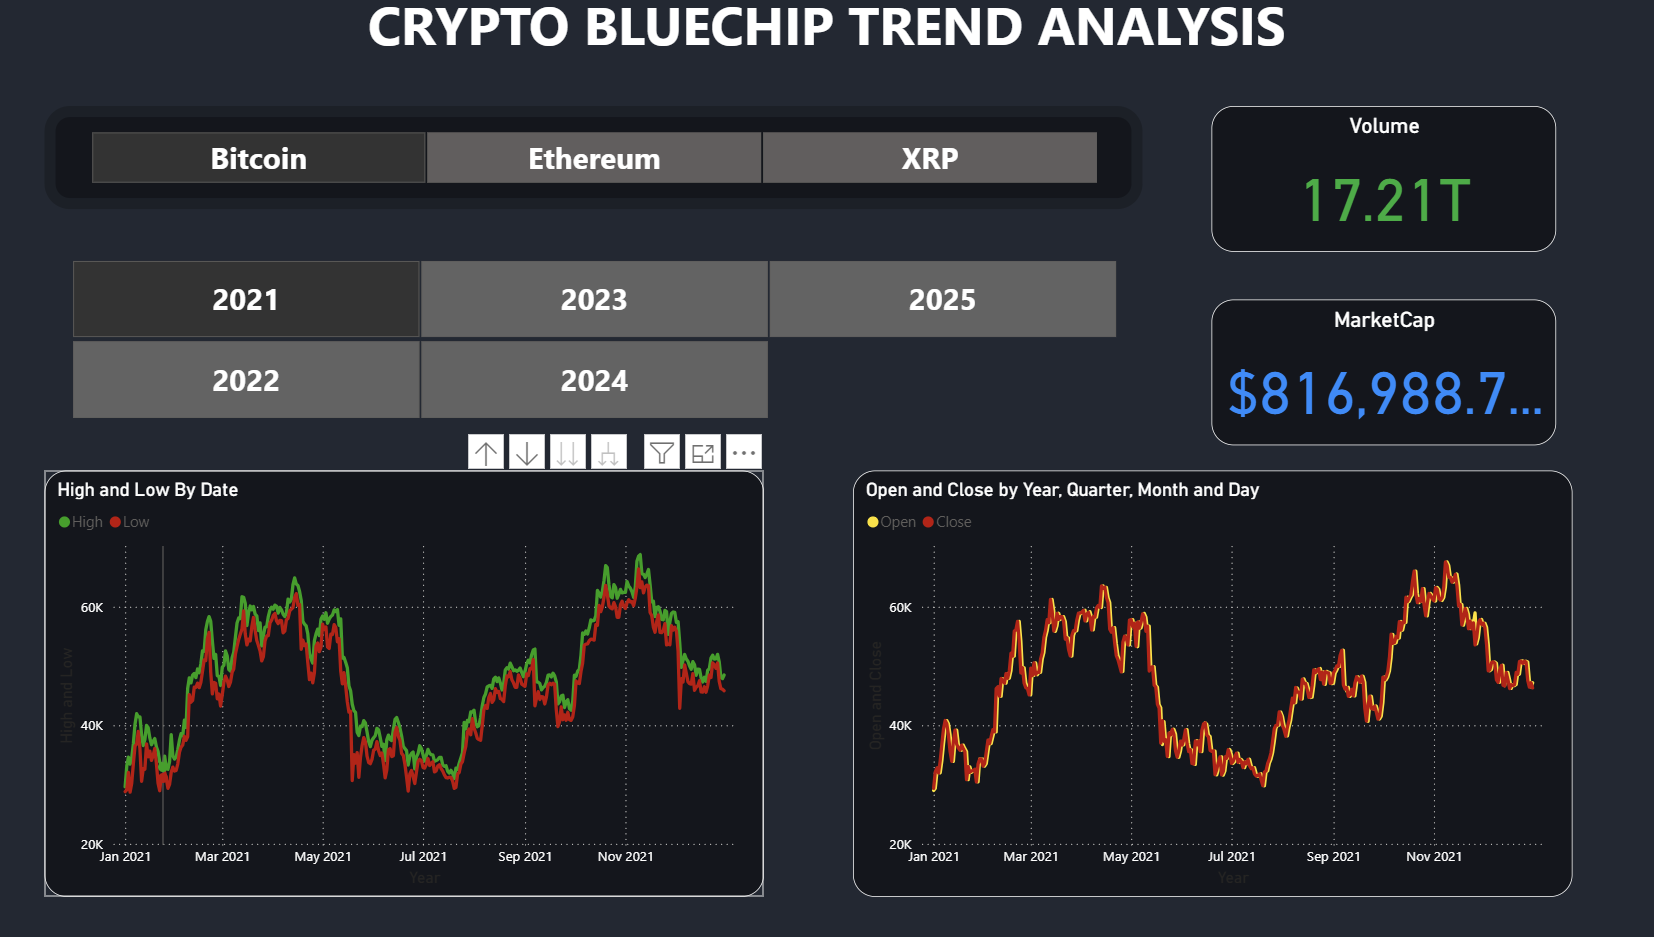

The dashboard page shown, as its layout file describes it:
{"tool":"powerbi","page":{"name":"Page 2","canvas":[1500,900],"ordinal":1},"visuals":[{"type":"slicer","fields":{"Values":["crypto_data_2021_2025.Name"]},"box":[41.8,141.5,993.8,93.3],"z":0},{"type":"slicer","fields":{"Values":["crypto_data_2021_2025.Year"]},"box":[42,274,994,156],"z":1000},{"type":"lineChart","title":"High and Low By Date","fields":{"Category":["crypto_data_2021_2025.Date.Variation.Date Hierarchy.Year","crypto_data_2021_2025.Date.Variation.Date Hierarchy.Quarter","crypto_data_2021_2025.Date.Variation.Date Hierarchy.Month","crypto_data_2021_2025.Date.Variation.Date Hierarchy.Day"],"Y":["Sum(crypto_data_2021_2025.High_Fixed)","Sum(crypto_data_2021_2025.Low_Fixed)"]},"box":[41.8,471.2,651.3,385.9],"z":2000},{"type":"textbox","box":[330,28.6,974.3,64.3],"z":4000},{"type":"card","title":"MarketCap","fields":{"Values":["Sum(crypto_data_2021_2025.Marketcap)"]},"box":[1098.3,316.8,312,131.9],"z":5000},{"type":"card","title":"Volume","fields":{"Values":["Sum(crypto_data_2021_2025.Volume_Fixed)"]},"box":[1098.3,141.5,312,131.9],"z":6000},{"type":"lineChart","fields":{"Category":["crypto_data_2021_2025.Date.Variation.Date Hierarchy.Year","crypto_data_2021_2025.Date.Variation.Date Hierarchy.Quarter","crypto_data_2021_2025.Date.Variation.Date Hierarchy.Month","crypto_data_2021_2025.Date.Variation.Date Hierarchy.Day"],"Y":["Sum(crypto_data_2021_2025.Open_Fixed)","Sum(crypto_data_2021_2025.Close_Fixed)"]},"box":[773.5,471.2,651.3,385.9],"z":7000}]}

Visuals, with their boxes on the page's 1500x900 design canvas (x1, y1, x2, y2). These are canvas units, not pixel positions in the 1654x937 screenshot, which may show the page scaled, cropped or inside an application window:
slicer - crypto_data_2021_2025.Name: 42,142,1036,235
slicer - crypto_data_2021_2025.Year: 42,274,1036,430
"High and Low By Date" lineChart: 42,471,693,857
textbox: 330,29,1304,93
"MarketCap" card: 1098,317,1410,449
"Volume" card: 1098,142,1410,273
lineChart - crypto_data_2021_2025.Date.Variation.Date Hierarchy.Year x crypto_data_2021_2025.Date.Variation.Date Hierarchy.Quarter: 774,471,1425,857
